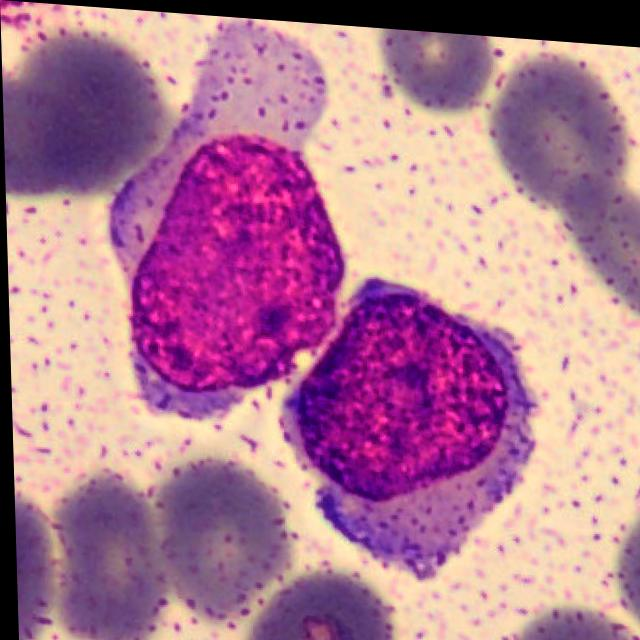Mieloblasto: (109, 17, 344, 419), (279, 273, 534, 574)
